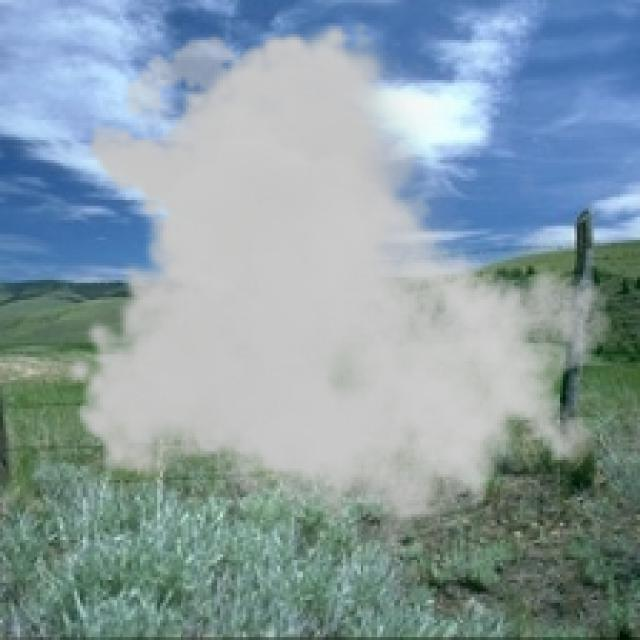Smoke: (62, 19, 614, 572)
